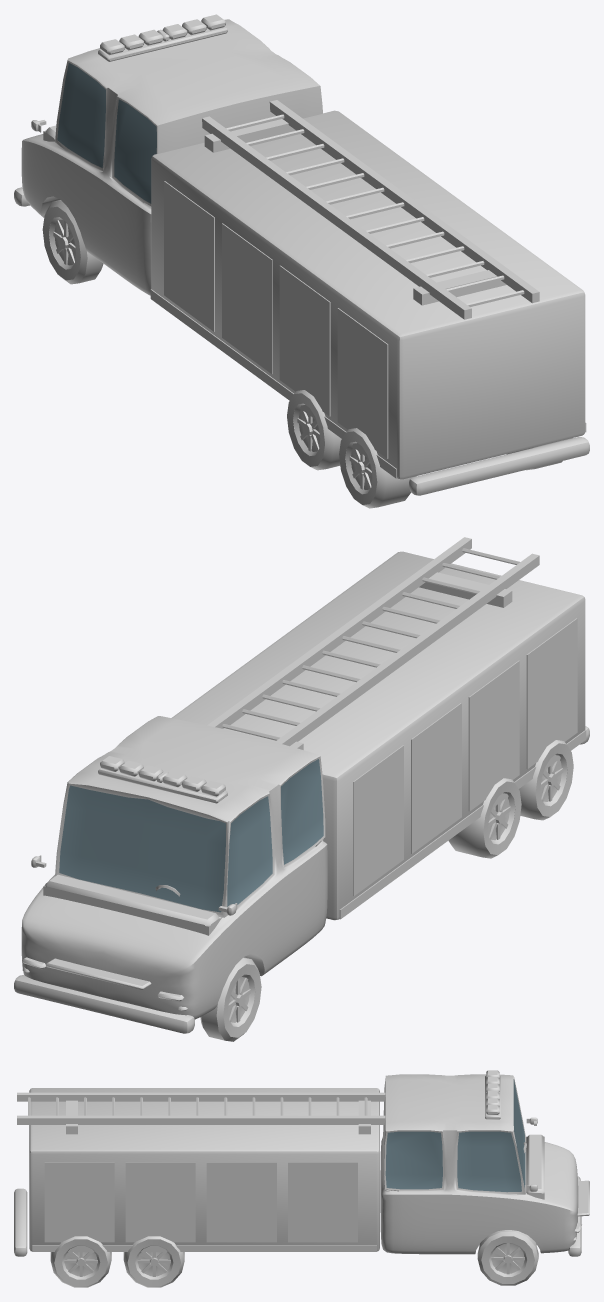
The model's file is car_firetruck.glb.
3 views of the same model, one above another, from view 1: azimuth 30°, elevation 25°; view 2: azimuth 150°, elevation 25°; view 3: azimuth 270°, elevation 25° (orthographic). The views are drawn at different scales.
Visible parts, largest first — view 1: car_firetruck; view 2: car_firetruck; view 3: car_firetruck.
Part boxes in pixels (x1,y1,x2,y2): car_firetruck: (14,14,589,508); car_firetruck: (14,537,589,1041); car_firetruck: (14,1070,589,1287).
Bounding box in the file's own units: 2.68 × 3.01 × 9.44.
